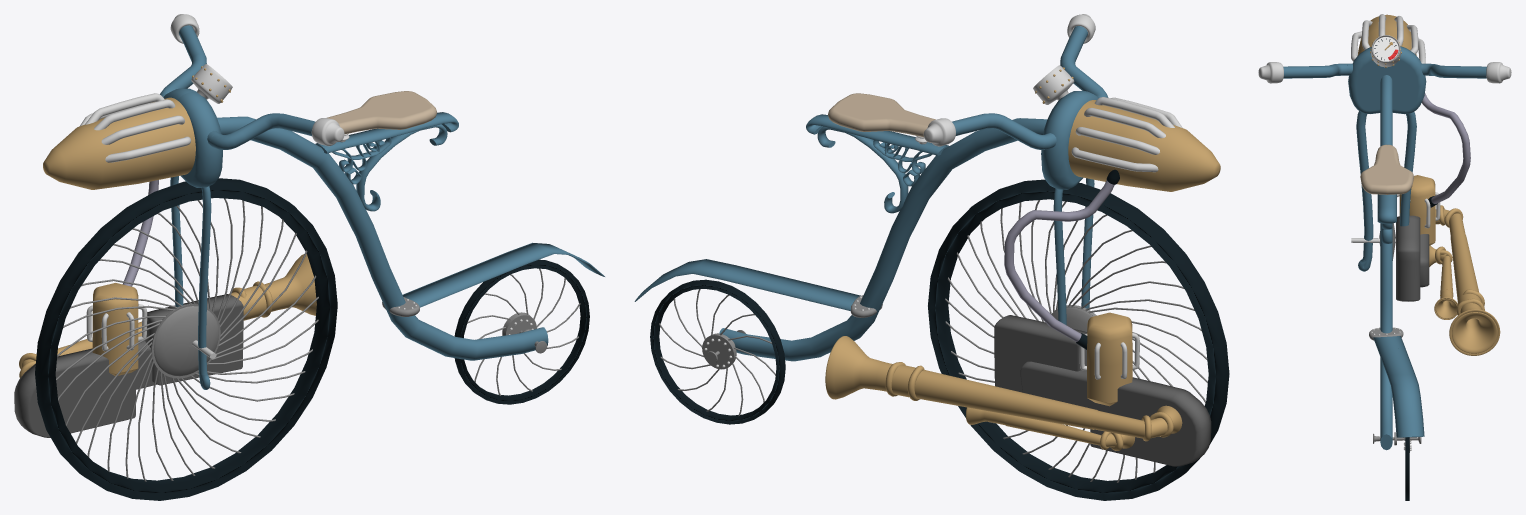
The model's file is steampunk.glb.
3 renders of one model, left to right at view 1: azimuth 30°, elevation 25°; view 2: azimuth 150°, elevation 25°; view 3: azimuth 270°, elevation 25°, orthographic. The views are drawn at different scales.
Visible parts, largest first — view 1: Object_15, Object_12, Object_25, Object_27, Object_14, Object_6, Object_19, Object_26, Object_11, Object_9, Object_10, Object_2 (+6 smaller); view 2: Object_15, Object_12, Object_25, Object_27, Object_35, Object_14, Object_26, Object_19, Object_2, Object_37, Object_3, Object_11 (+9 smaller); view 3: Object_12, Object_14, Object_25, Object_37, Object_2, Object_26, Object_19, Object_35, Object_3, Object_27, Object_18, Object_36 (+4 smaller).
Boxes of the visible parts, x1,y1,x2,y2 form: Object_15: [35, 178, 589, 500]; Object_12: [160, 25, 604, 360]; Object_25: [14, 294, 243, 437]; Object_27: [19, 97, 266, 377]; Object_14: [163, 88, 222, 389]; Object_6: [151, 297, 536, 378]; Object_19: [79, 93, 344, 162]; Object_26: [92, 281, 272, 375]; Object_11: [58, 198, 316, 481]; Object_9: [57, 200, 318, 480]; Object_10: [56, 200, 318, 478]; Object_2: [327, 91, 436, 134]; Object_15: [650, 179, 1229, 500]; Object_12: [634, 26, 1108, 361]; Object_25: [994, 315, 1211, 466]; Object_27: [891, 100, 1220, 441]; Object_35: [914, 370, 1097, 429]; Object_14: [1041, 91, 1098, 325]; Object_26: [885, 312, 1132, 450]; Object_19: [1067, 14, 1182, 172]; Object_2: [828, 93, 935, 137]; Object_37: [825, 336, 892, 399]; Object_3: [1004, 180, 1114, 341]; Object_11: [948, 200, 1205, 482]; Object_12: [1283, 63, 1486, 450]; Object_14: [1348, 46, 1426, 271]; Object_25: [1396, 215, 1429, 301]; Object_37: [1449, 303, 1500, 355]; Object_2: [1360, 144, 1413, 194]; Object_26: [1384, 42, 1484, 315]; Object_19: [1258, 14, 1425, 83]; Object_35: [1450, 231, 1479, 302]; Object_3: [1421, 93, 1470, 203]; Object_27: [1357, 14, 1481, 304]; Object_18: [1371, 35, 1511, 83]; Object_36: [1434, 290, 1457, 319].
Size of the model in its own units: 5.86 by 4.15 by 2.84.
